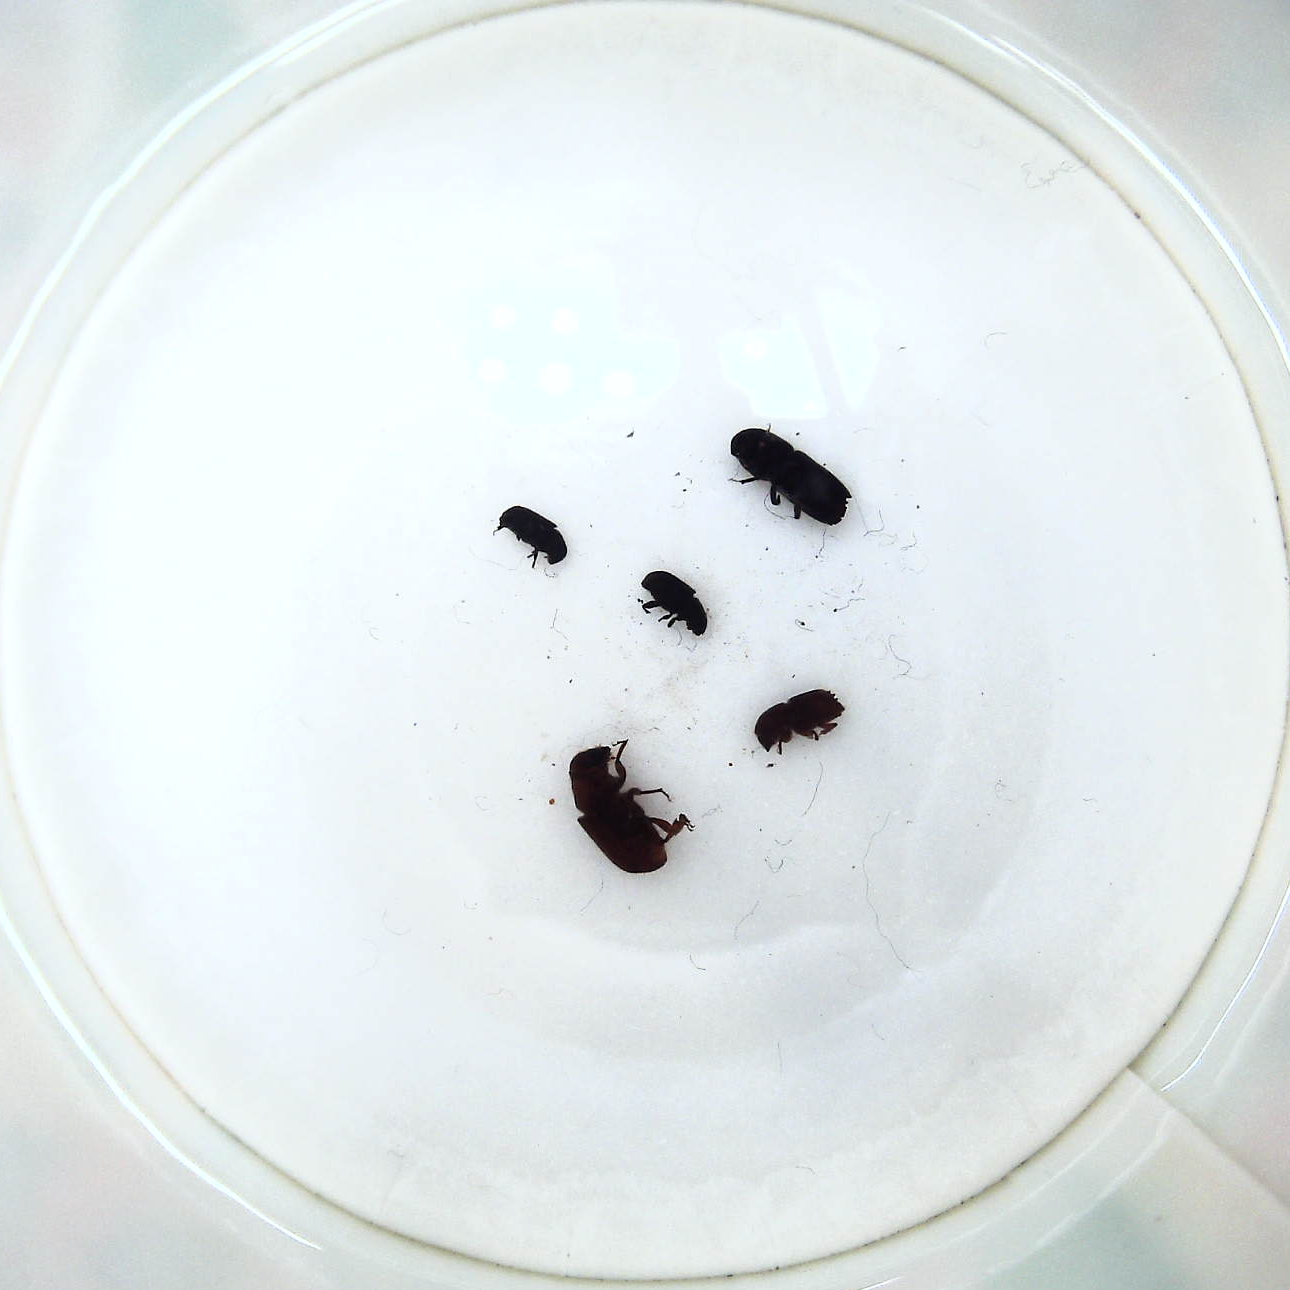Boerner: (719, 425, 854, 535)
Leconte: (563, 738, 695, 882)
armandi: (637, 563, 712, 645)
coleoptera: (493, 501, 568, 569)
linnaeus: (751, 684, 851, 755)
